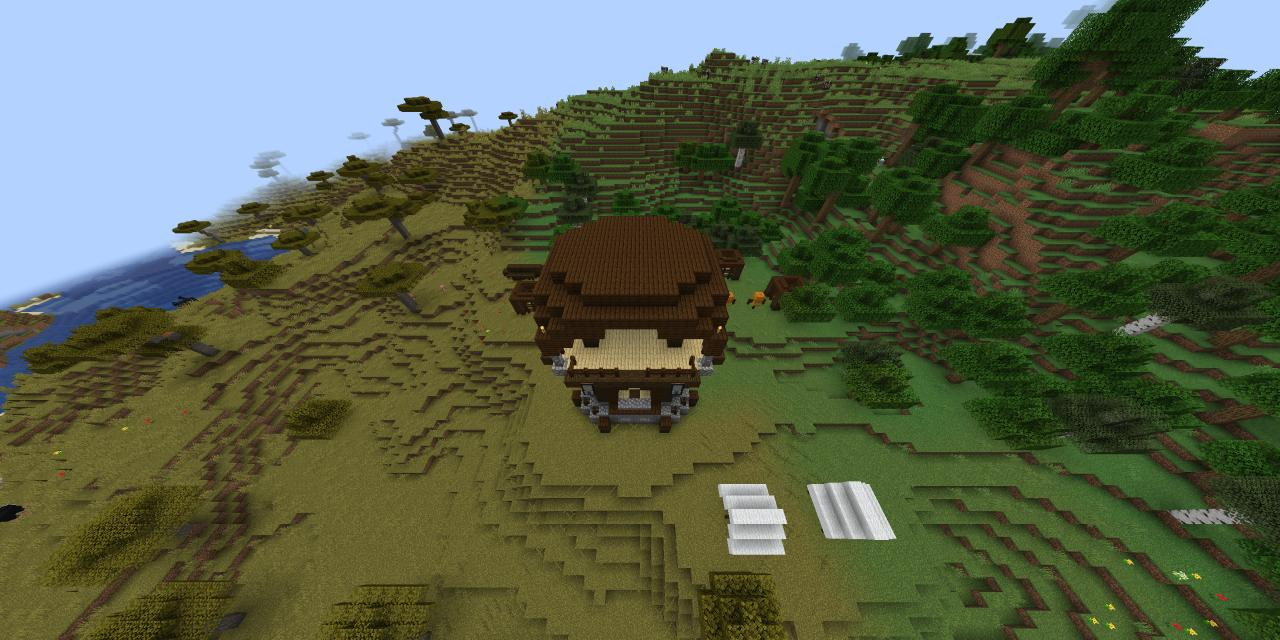pillager outpost: (524, 210, 738, 440)
